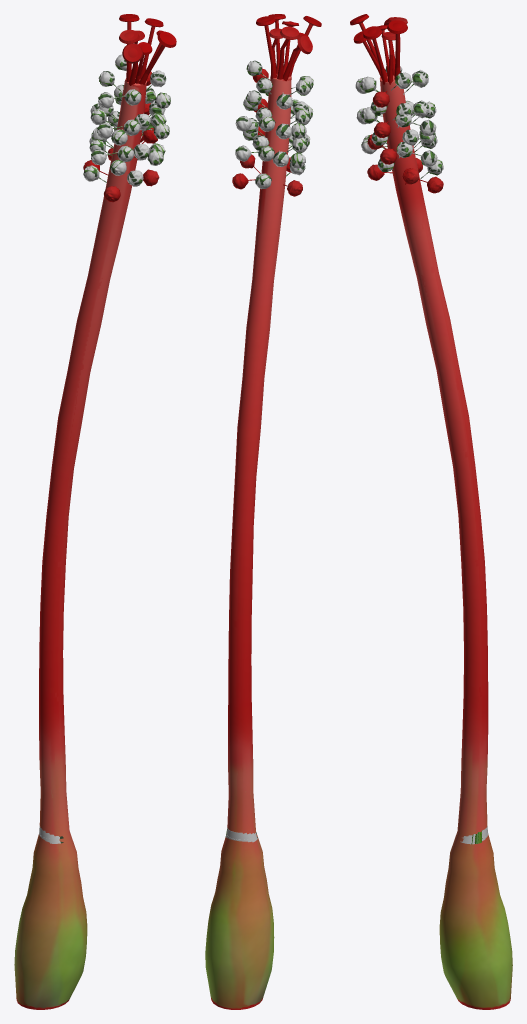
The model's file is hibyscus_polinator.glb.
The picture shows the model from 3 angles, left to right: view 1: azimuth 90°, elevation 25°; view 2: azimuth 150°, elevation 25°; view 3: azimuth 270°, elevation 25°; orthographic projection. The views are drawn at different scales.
Parts seen in each view (by area): view 1: polySurface31; view 2: polySurface31; view 3: polySurface31.
Part boxes in pixels (x1=…): polySurface31: x1=14, y1=14, x2=176, y2=1009; polySurface31: x1=205, y1=14, x2=321, y2=1009; polySurface31: x1=350, y1=14, x2=512, y2=1009.
Bounding box in the file's own units: 0.0469 × 0.6614 × 0.0993.
3 materials, 3 textured.
